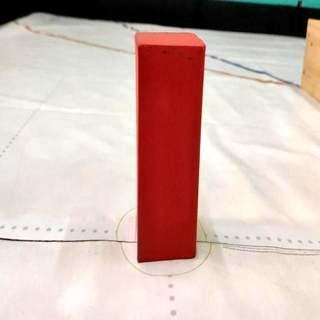redbox: (133, 31, 205, 262)
